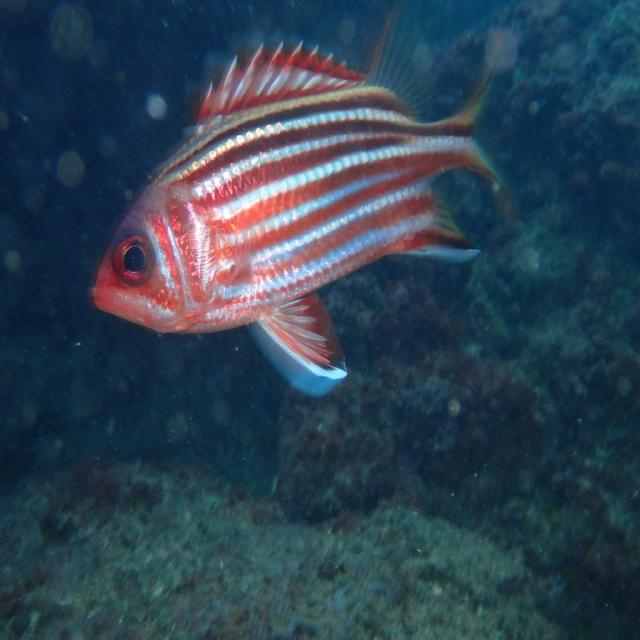Asker Baligi: (81, 0, 544, 405)
